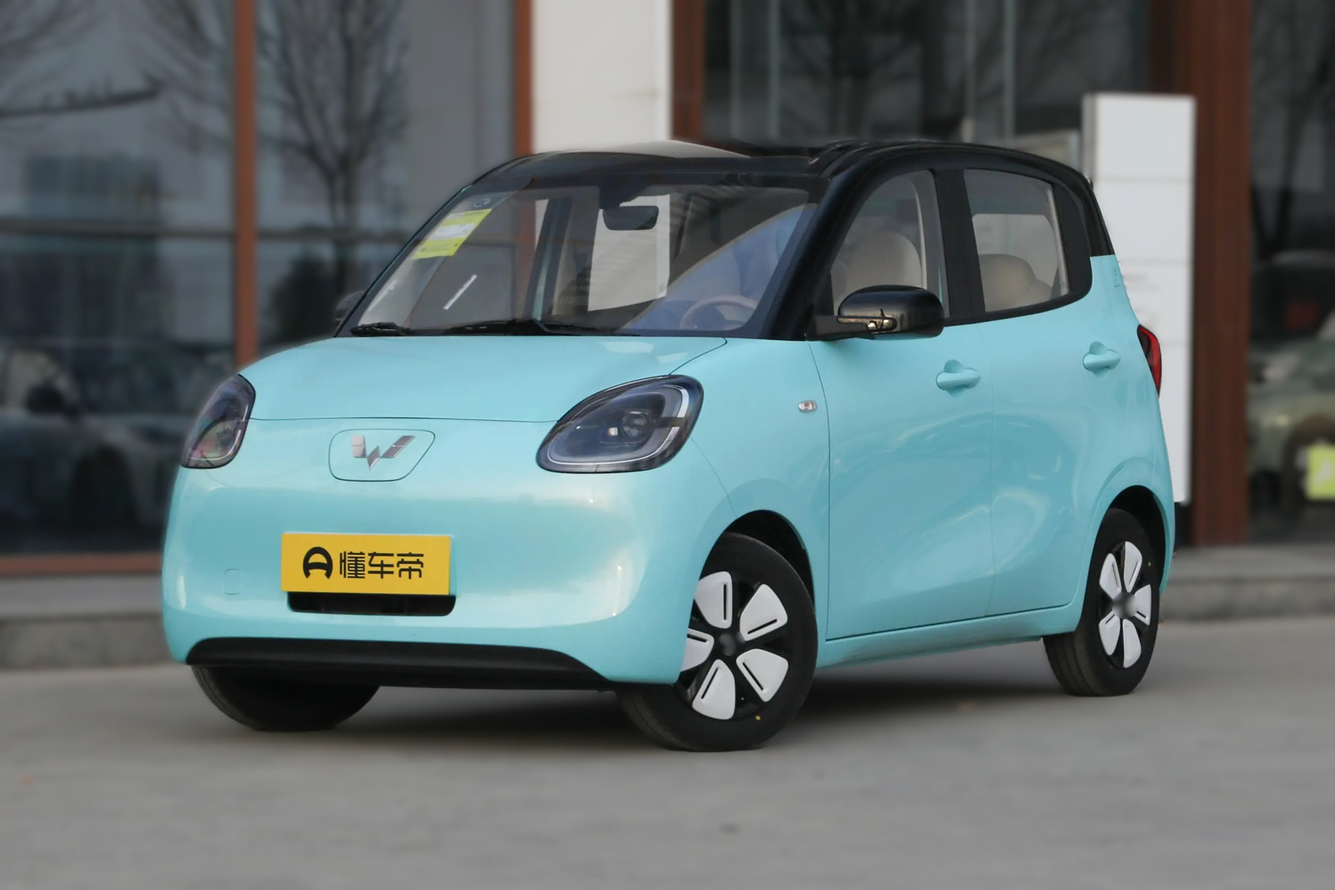SGMW: (351, 435, 415, 469)
